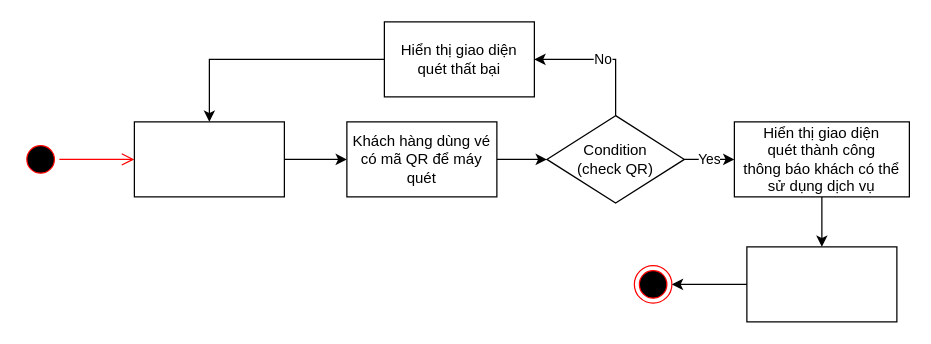
This 931x344 diagram has some shape labels left out. Each missing label, with the centre of its shape:
Hiển thị giao diện quét mã QR trên máy quét: point 208,159
Hệ thống xử lý trừ tiền trong tk khách: point 821,284
